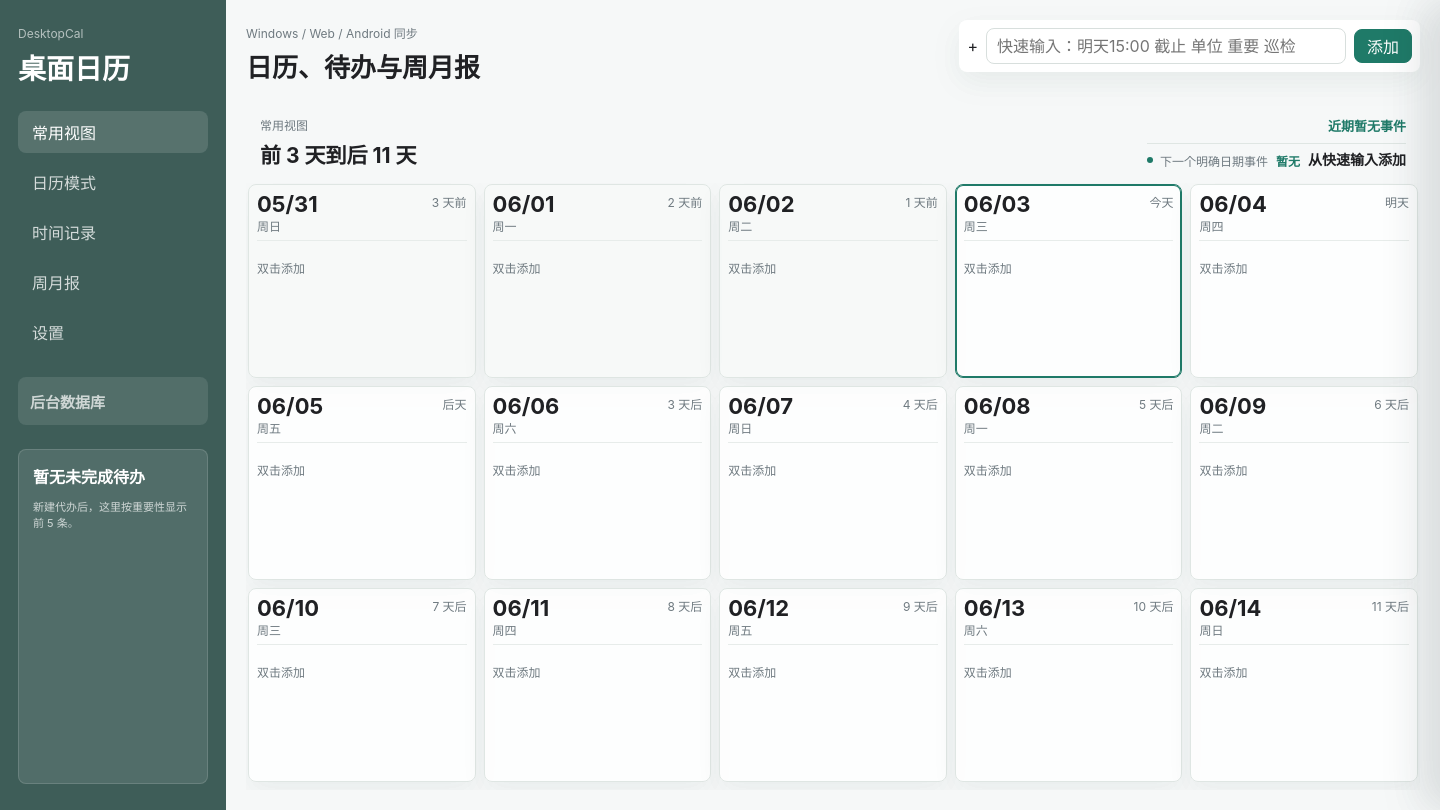
App event interactions › parses undated task text as a todo
Expected: the text "近期暂无事件" is shown, x1=1328 y1=116 x2=1406 y2=135
Type "待办 整理发票 很重要" into the field named "Quick add title" at {"x": 1166, "y": 46}, box x1=986 y1=28 x2=1346 y2=64
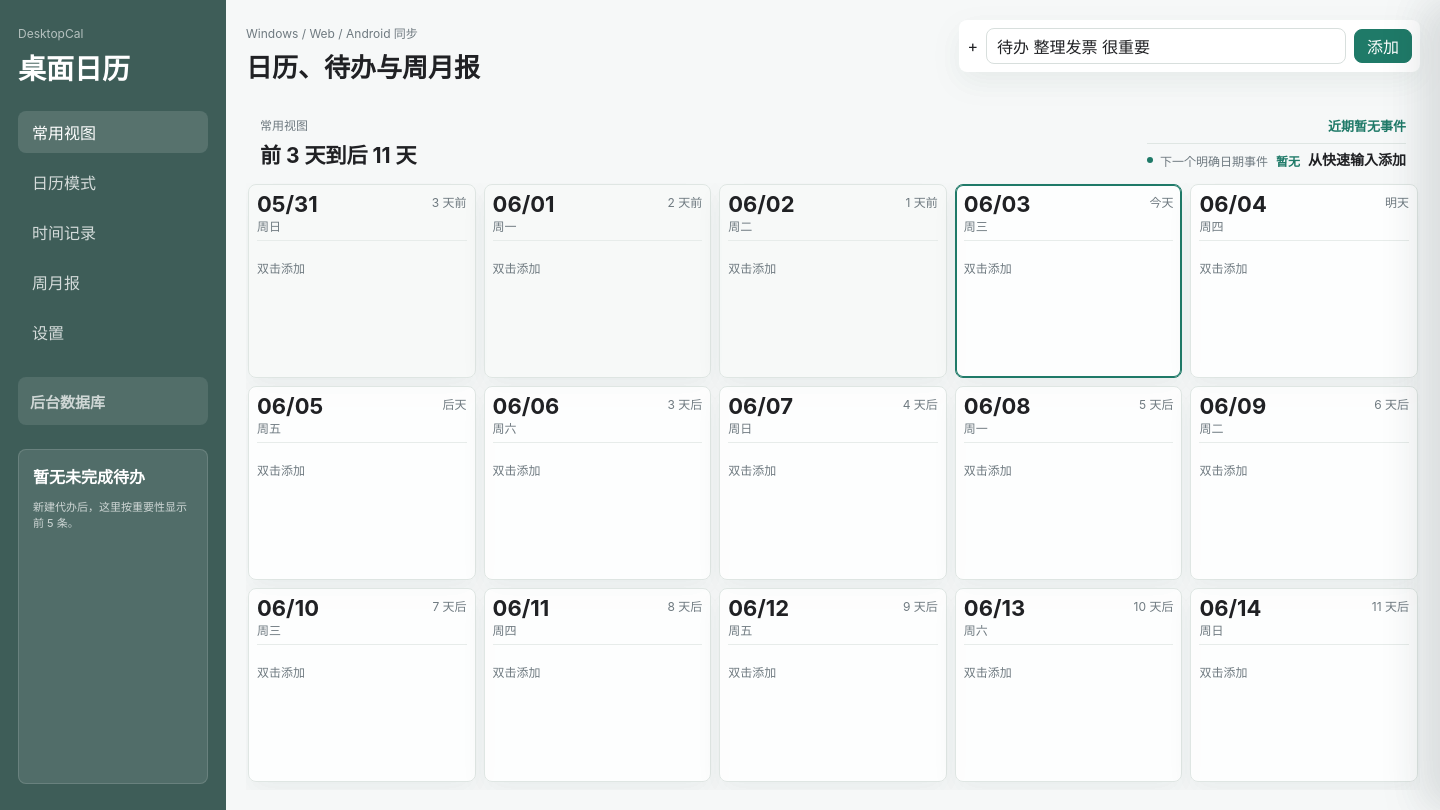
Click the button "添加" at {"x": 1383, "y": 46}, box x1=1354 y1=29 x2=1412 y2=63
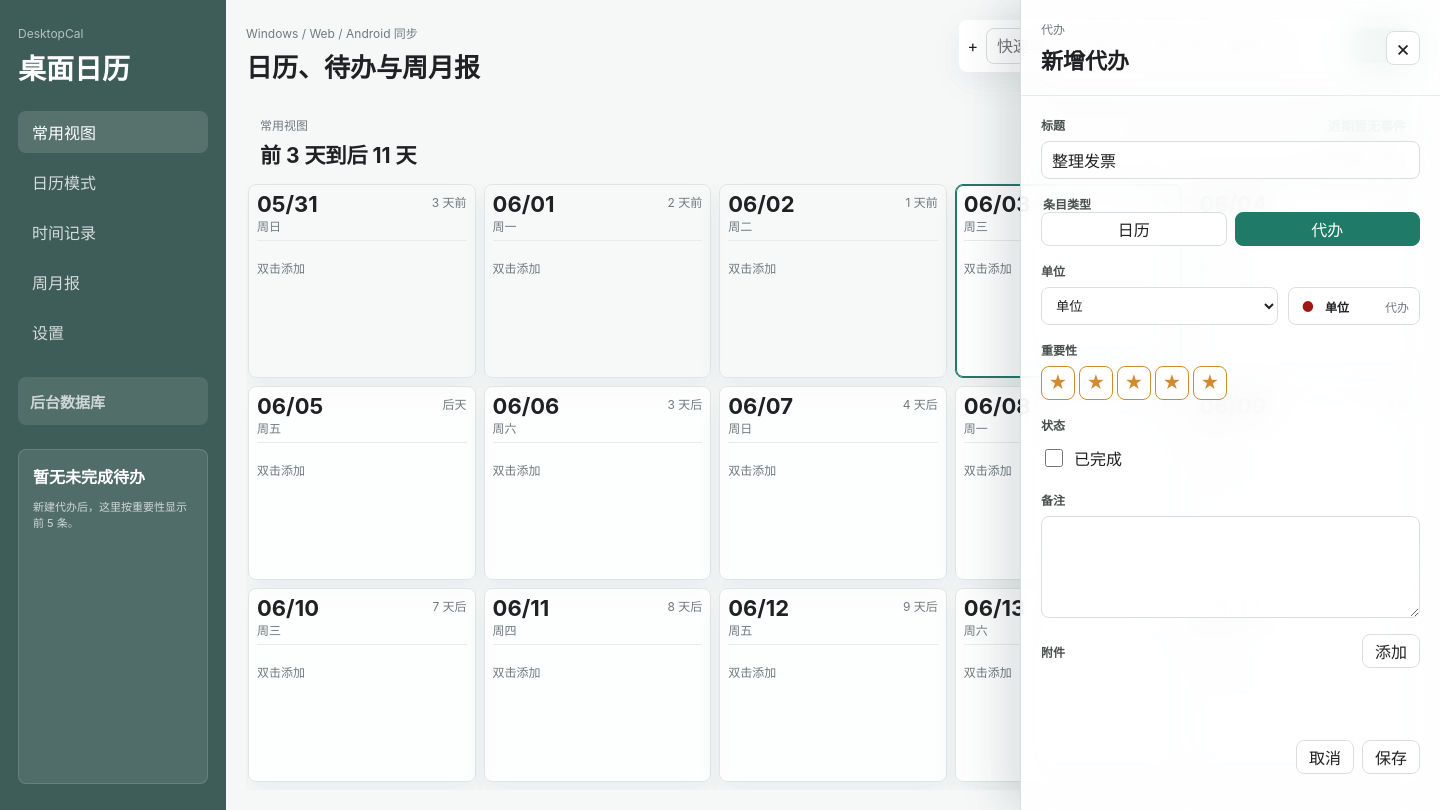
Expected: the heading "新增代办" is shown, x1=1041 y1=43 x2=1129 y2=75
Expected: the field labelled "标题" holds "整理发票", x1=1041 y1=141 x2=1420 y2=179
